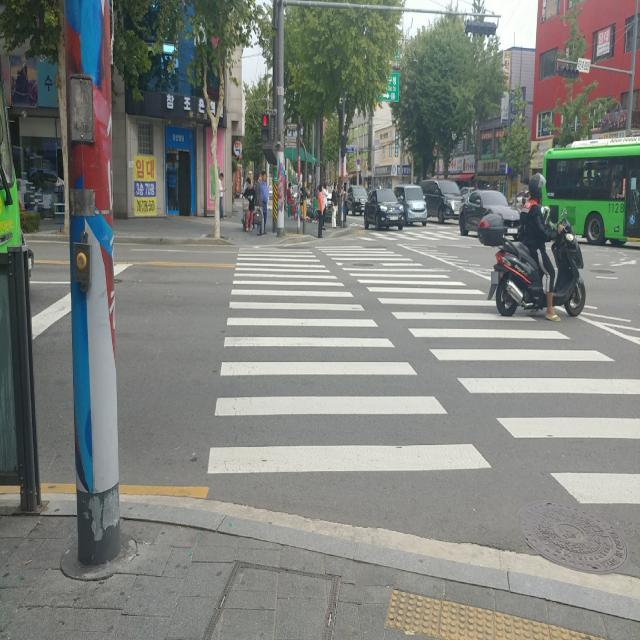빨간불: (262, 114, 268, 142)
횡단보도: (206, 243, 640, 508)
